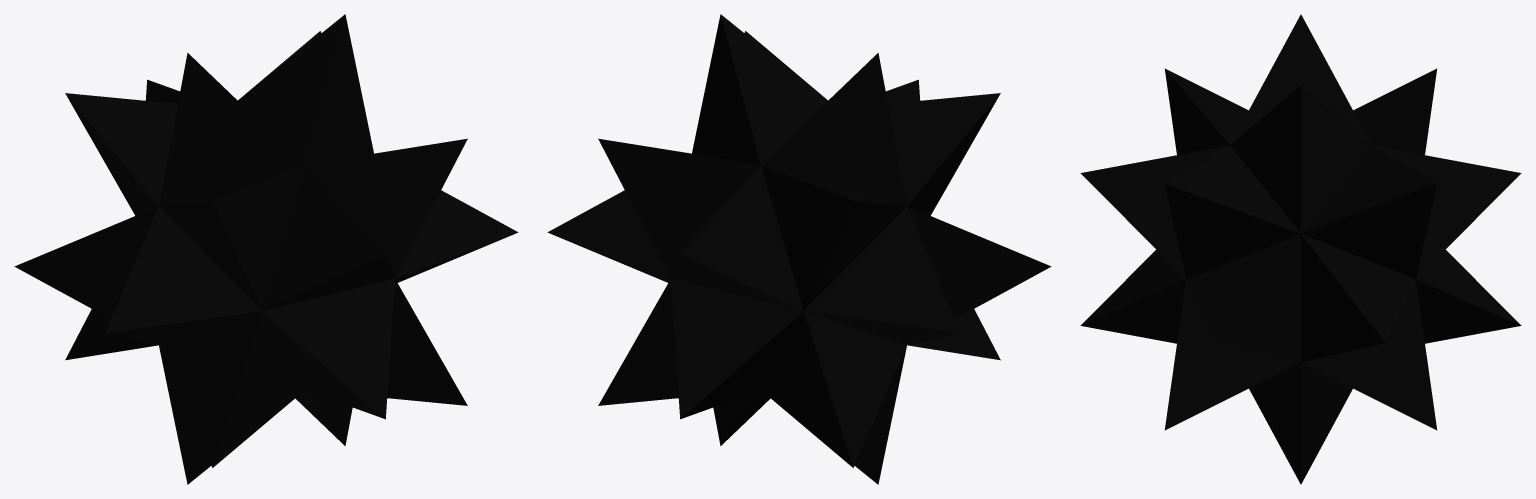
The model's file is horseman_blue44.glb.
3 views of the same model, side by side, from view 1: azimuth 30°, elevation 25°; view 2: azimuth 150°, elevation 25°; view 3: azimuth 270°, elevation 25° (orthographic). The views are drawn at different scales.
Visible parts, largest first — view 1: node_id5; view 2: node_id5; view 3: node_id5.
Boxes of the visible parts, <box> form: node_id5: <box>14,14,518,484</box>; node_id5: <box>547,14,1051,484</box>; node_id5: <box>1080,14,1521,484</box>.
Bounding box in the file's own units: 0.512 × 0.512 × 0.512.
Materials: 1 (1 with a texture image).
